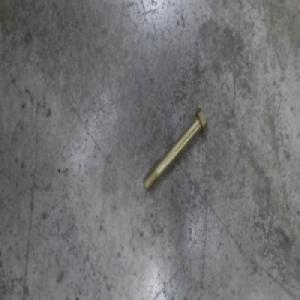Bolt: (142, 105, 209, 193)
